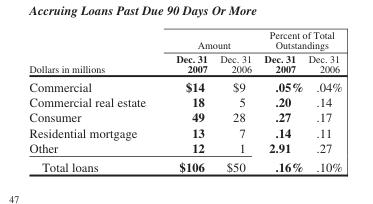table: (28, 29, 341, 173)
table column: (28, 29, 160, 173), (160, 29, 213, 173), (257, 29, 305, 173), (213, 29, 257, 173), (305, 29, 341, 173)
table column header: (28, 29, 341, 76)
table row: (28, 51, 341, 76), (28, 29, 341, 51), (28, 76, 341, 94), (28, 139, 341, 156), (28, 156, 341, 173), (28, 94, 341, 109), (28, 109, 341, 124), (28, 124, 341, 139)
table spanning cell: (28, 29, 160, 76), (160, 29, 257, 51), (257, 29, 341, 51)
